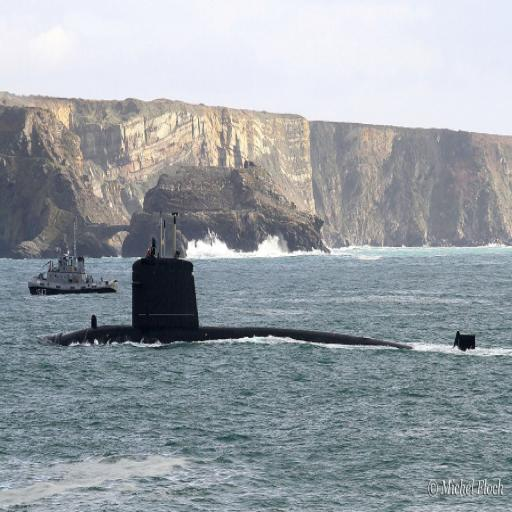submarine: (47, 255, 479, 354)
